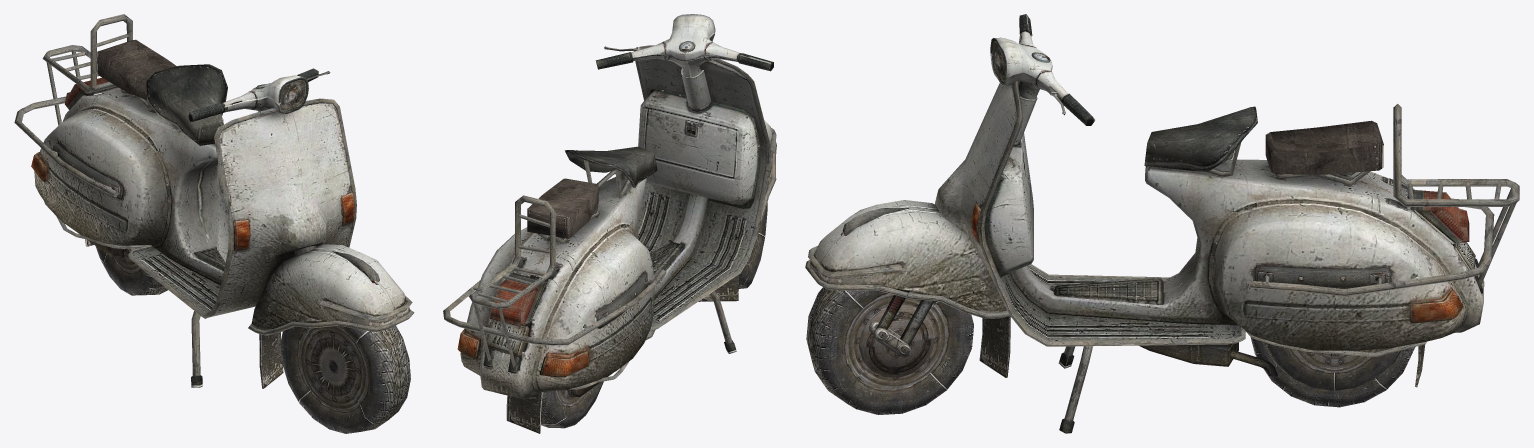
File: vespa_scooter_realistic.glb
3 views of the same model, side by side, from view 1: azimuth 30°, elevation 25°; view 2: azimuth 150°, elevation 25°; view 3: azimuth 270°, elevation 25° (orthographic). The views are drawn at different scales.
Visible parts, largest first — view 1: Object_3; view 2: Object_3; view 3: Object_3.
Part boxes in pixels (x1,y1,x2,y2): Object_3: (14, 14, 414, 433); Object_3: (443, 14, 776, 433); Object_3: (805, 14, 1519, 433).
Bounding box in the file's own units: 0.549 × 1.01 × 1.81.
Materials: 1 (1 with a texture image).
